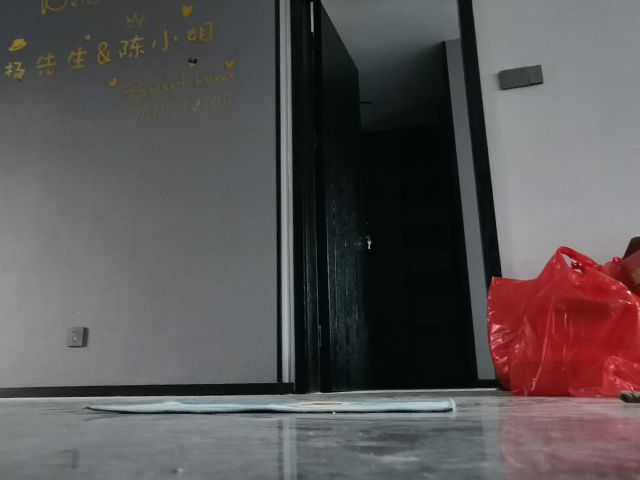carpet: (84, 398, 456, 414)
feces: (615, 389, 640, 405)
